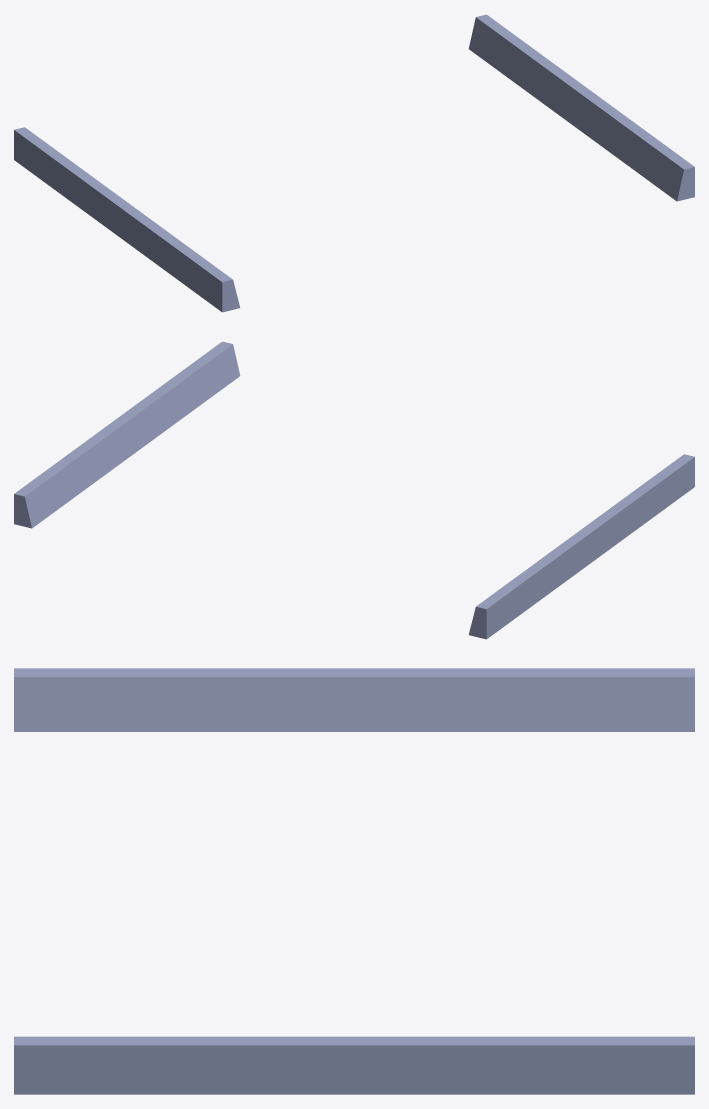
File: road-side-barrier.glb
3 views of the same model, one above another, from view 1: azimuth 30°, elevation 25°; view 2: azimuth 150°, elevation 25°; view 3: azimuth 270°, elevation 25° (orthographic). The views are drawn at different scales.
Visible parts, largest first — view 1: road-side-barrier; view 2: road-side-barrier; view 3: road-side-barrier.
Boxes of the visible parts, x1,y1,x2,y2 form: road-side-barrier: (14,14,694,312); road-side-barrier: (14,341,694,639); road-side-barrier: (14,668,694,1094).
Bounding box in the file's own units: 13.1 × 0.7996 × 10.
Materials: 1 (1 with a texture image).
